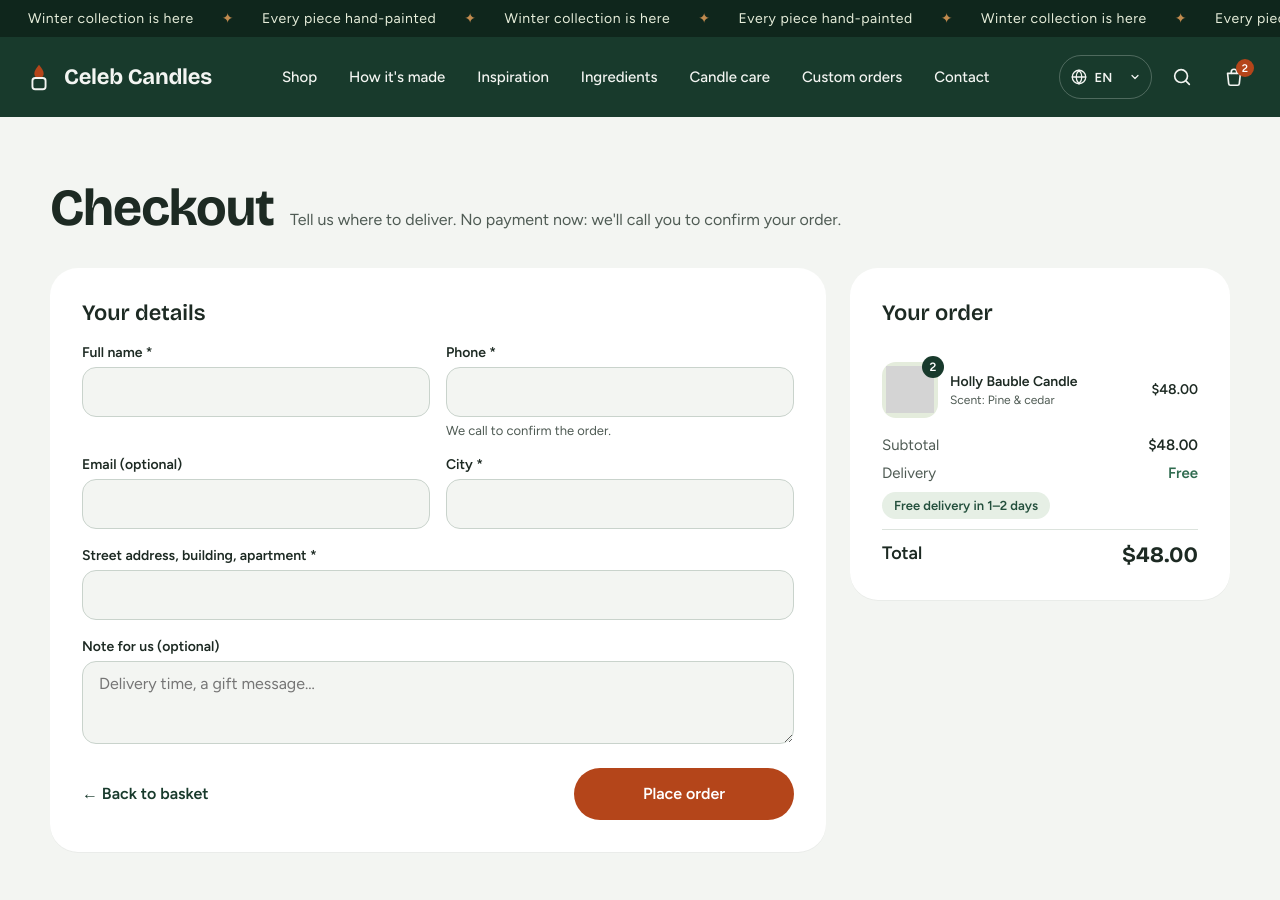
Checkout › places the order, clears the basket and says thank you
The image size is (1280, 900).
Check: the text "Holly Bauble Candle" is shown, box [950, 372, 1078, 390]
Check: the text "$48.00" next to "Holly Bauble Candle" is shown, box [1152, 381, 1198, 398]
Type "Anna Petrosyan" into the field labelled "Full name *" at (256, 392), box [82, 367, 430, 417]
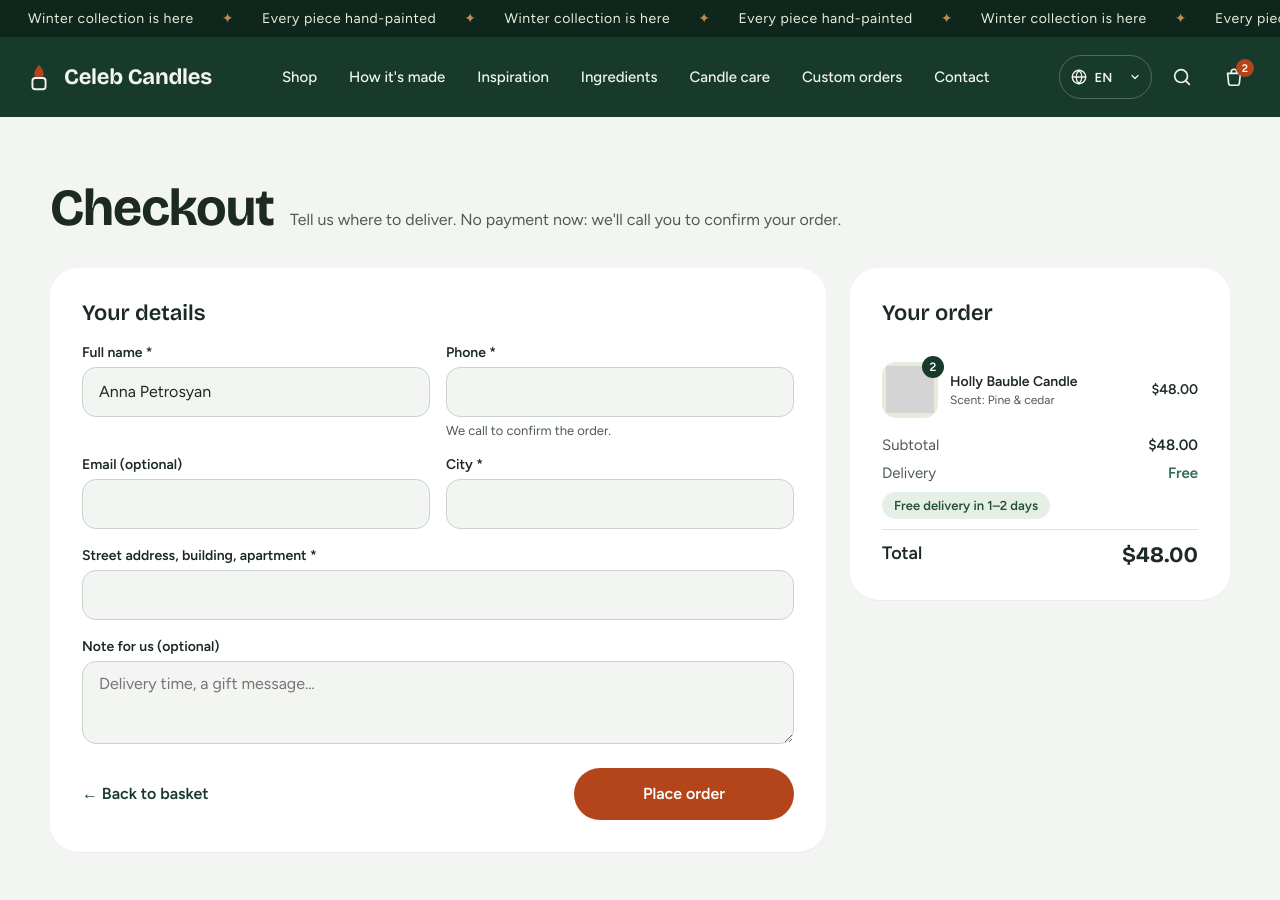
Type "+374 91 234567" into the field labelled "Phone *" at (620, 392), box [446, 367, 794, 417]
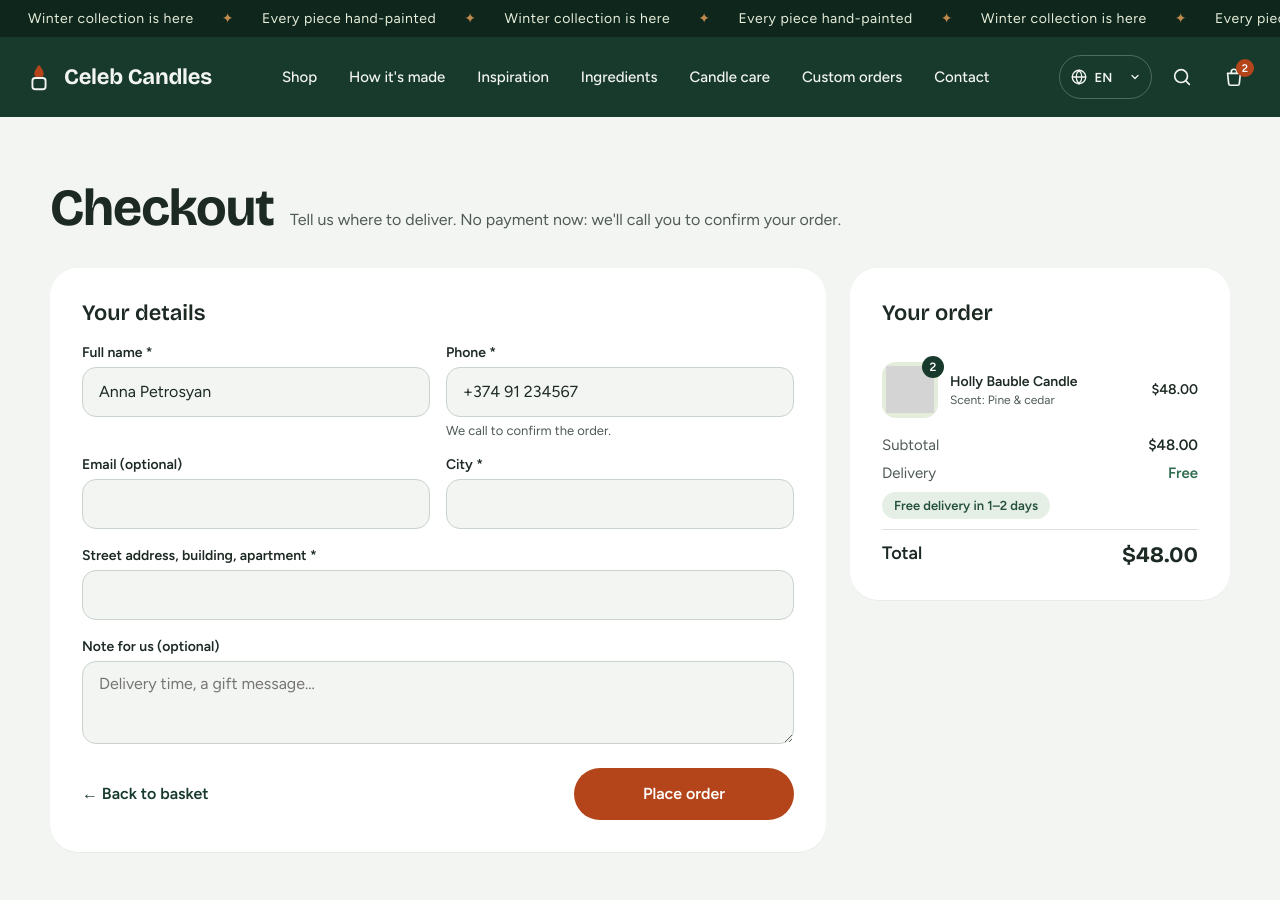
Type "Yerevan" into the field labelled "City *" at (620, 504), box [446, 479, 794, 529]
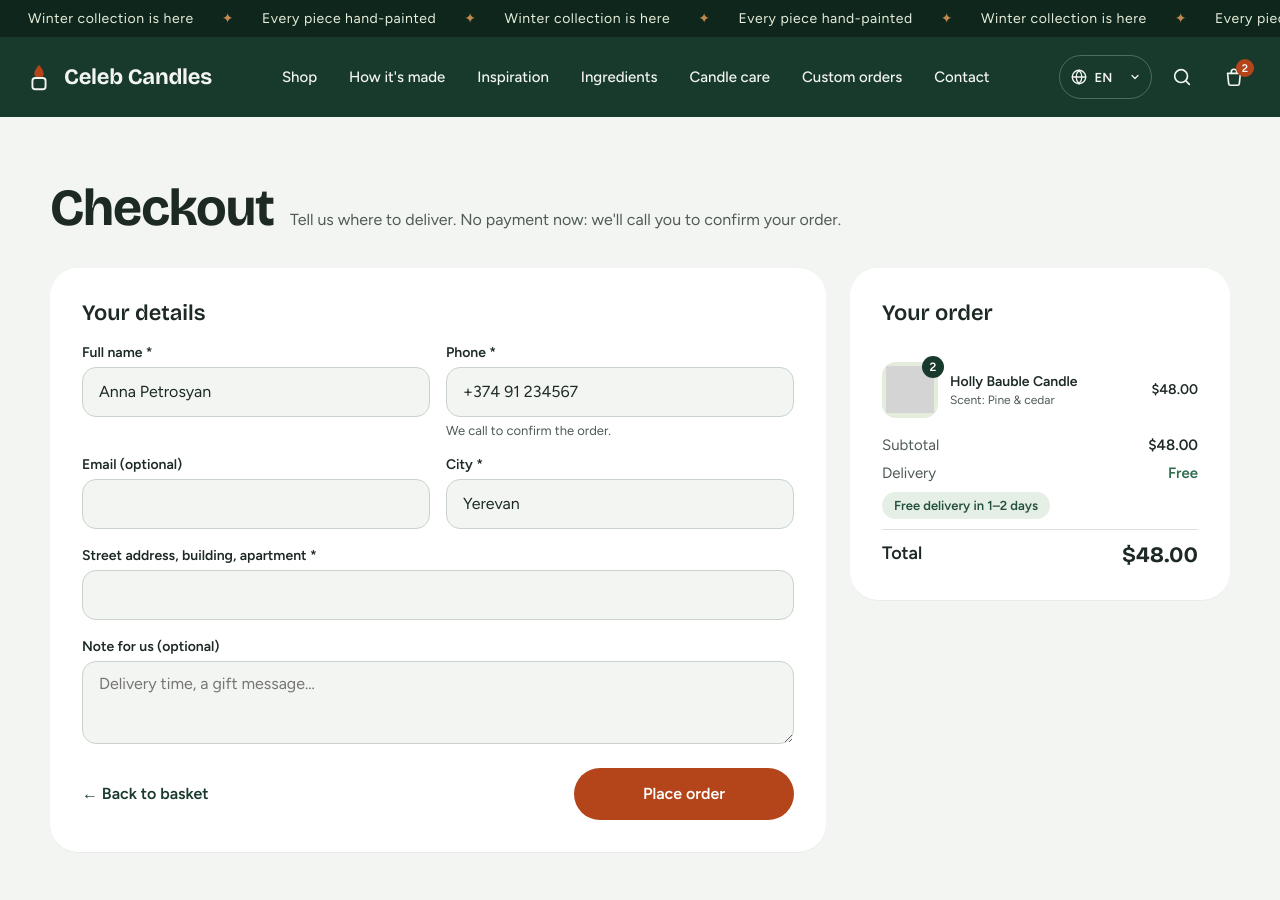
Type "Abovyan 10" into the field labelled "Street address, building, apartment *" at (438, 595), box [82, 570, 794, 620]
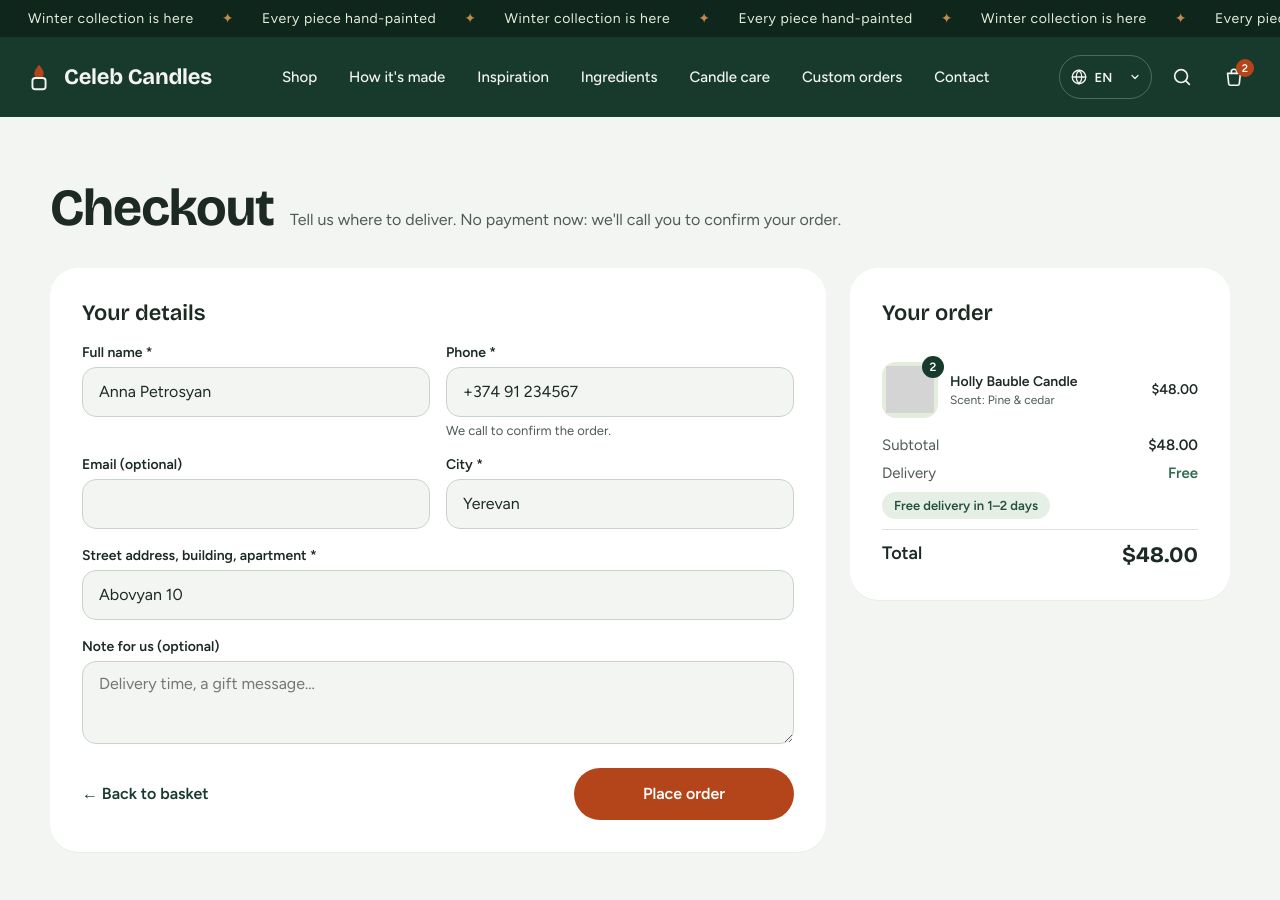
Click the button "Place order" at (684, 794), box [574, 768, 794, 820]
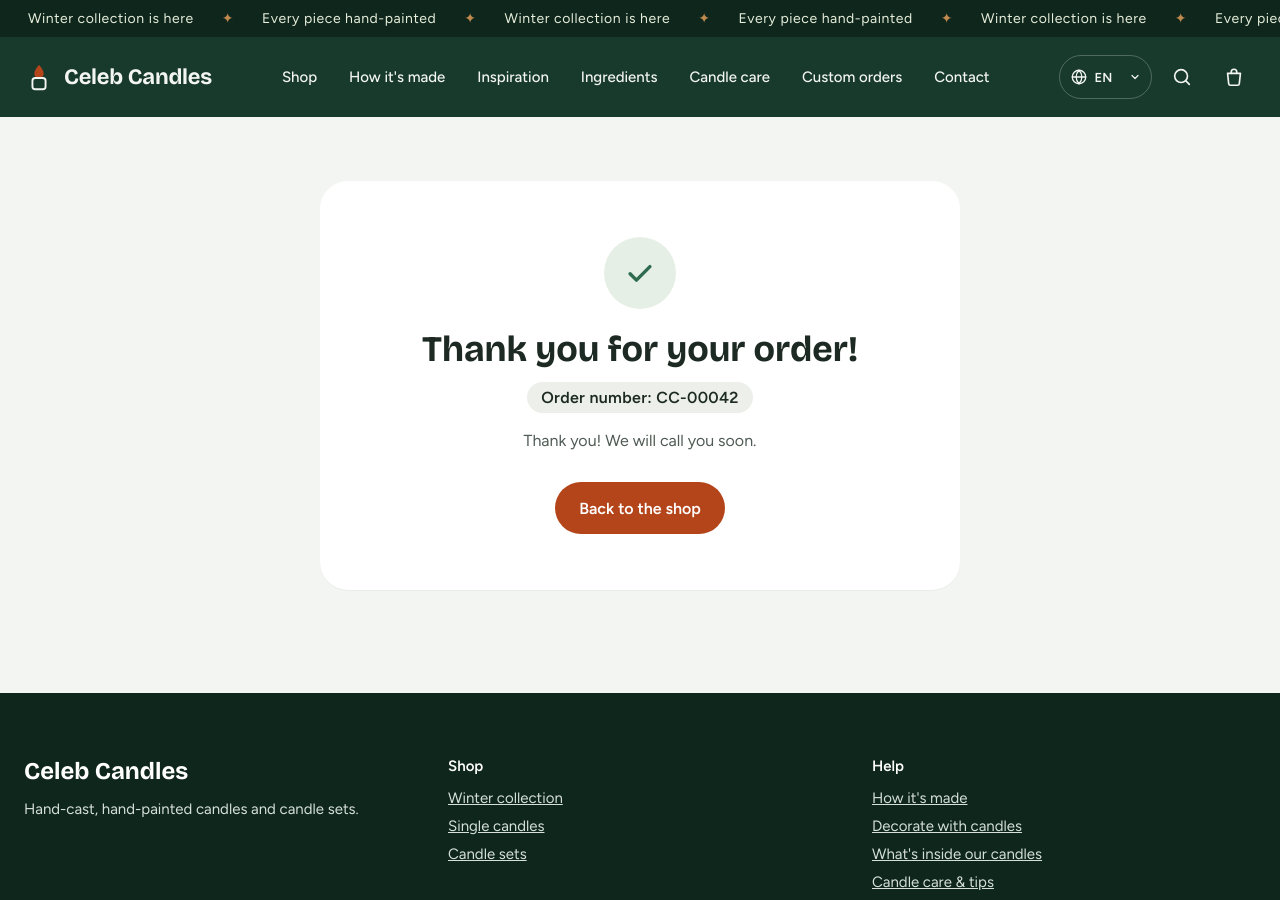
Check: the heading "Thank you for your order!" is shown, box [422, 329, 858, 370]
Check: the text "Order number: CC-00042" is shown, box [527, 382, 753, 413]
Check: the text "Thank you! We will call you soon." is shown, box [524, 429, 756, 454]
